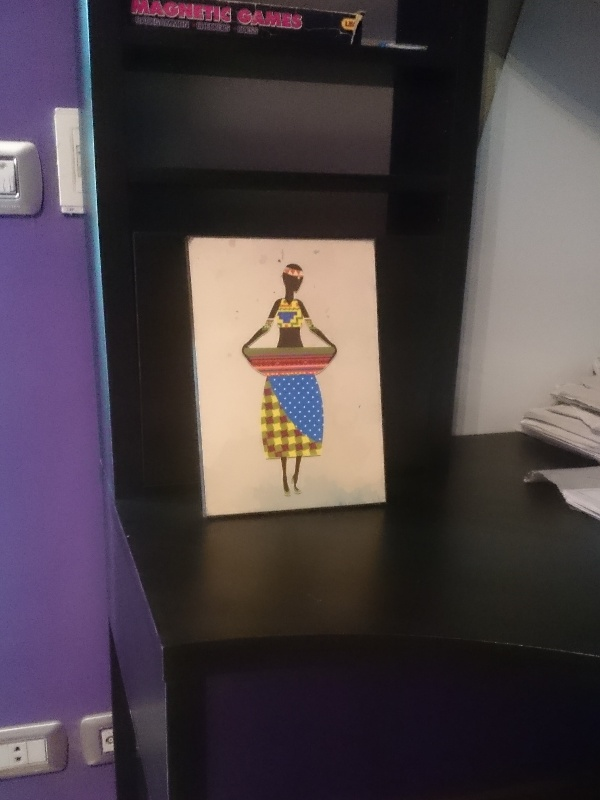my image: (185, 233, 384, 518)
